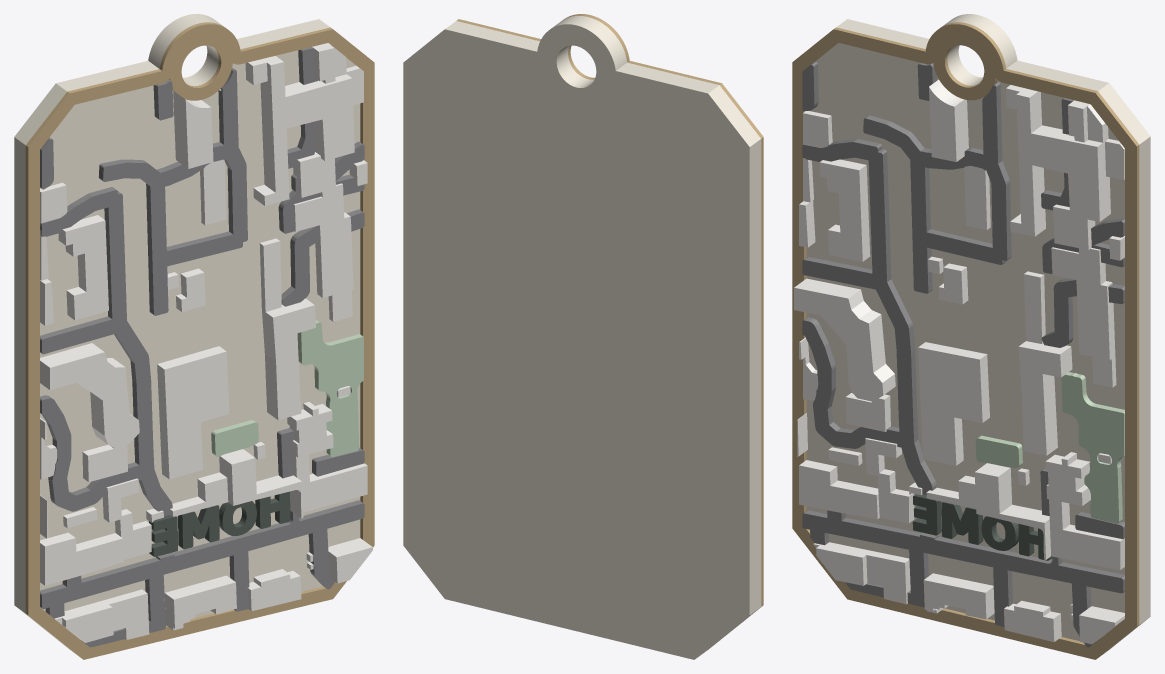
File: keychain-city.glb
3 views of the same model, side by side, from view 1: azimuth 30°, elevation 25°; view 2: azimuth 150°, elevation 25°; view 3: azimuth 330°, elevation 25° (orthographic).
Visible parts, largest first — view 1: Buildings, Base, Roads, Rim, Parks, Text; view 2: Base, Rim; view 3: Buildings, Base, Roads, Rim, Parks, Text.
Boxes of the visible parts, <box> form: Buildings: <box>40,43,372,642</box>; Base: <box>14,14,360,655</box>; Roads: <box>40,47,364,647</box>; Rim: <box>25,22,374,659</box>; Parks: <box>211,320,363,457</box>; Text: <box>149,491,290,556</box>; Base: <box>403,16,761,659</box>; Rim: <box>456,14,763,649</box>; Buildings: <box>794,79,1124,644</box>; Base: <box>806,14,1150,655</box>; Roads: <box>802,61,1124,647</box>; Rim: <box>792,22,1139,659</box>; Parks: <box>975,372,1124,523</box>; Text: <box>912,494,1052,560</box>.
Size of the model in its own units: 35 by 58.48 by 4.2.
